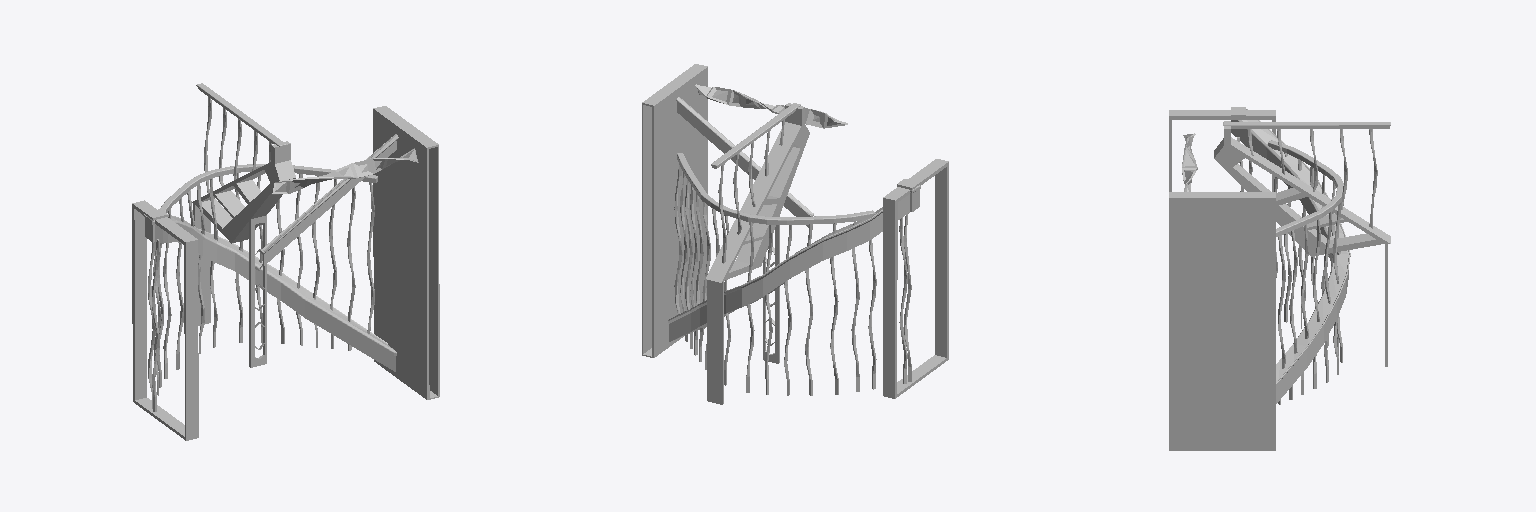
File: Rune-A-04.obj
3 renders of one model, left to right at view 1: azimuth 30°, elevation 25°; view 2: azimuth 150°, elevation 25°; view 3: azimuth 270°, elevation 25°, orthographic.
Parts seen in each view (by area): view 1: group1 pCube1, group1 pCube3, group1 pCube13, pCube5 group1, group1 pCube6, pCube7, group1 pCube4, pCube32, pCube8, pCube40, pCube11; view 2: group1 pCube1, group1 pCube3, pCube5 group1, group1 pCube13, pCube8, pCube32, group1 pCube6, group1 pCube4, pCube7, pCube40, pCube10, pCube11; view 3: group1 pCube1, group1 pCube13, pCube5 group1, pCube32, group1 pCube3, pCube40, group1 pCube4.
Part boxes in pixels (x1,y1,x2,y2): group1 pCube1: (373,106,439,399); group1 pCube3: (132,200,198,440); group1 pCube13: (143,209,396,371); pCube5 group1: (192,141,295,243); group1 pCube6: (260,134,398,265); pCube7: (249,215,266,367); group1 pCube4: (272,148,418,194); pCube32: (160,164,377,212); pCube8: (193,203,210,325); pCube40: (196,83,286,146); pCube11: (152,239,159,411); group1 pCube1: (642,64,707,357); group1 pCube3: (883,159,948,398); pCube5 group1: (706,103,809,282); group1 pCube13: (668,179,920,341); pCube8: (707,280,723,404); pCube32: (677,153,875,224); group1 pCube6: (676,97,813,227); group1 pCube4: (695,84,847,128); pCube7: (763,225,779,363); pCube40: (711,103,800,168); pCube10: (899,218,907,383); pCube11: (904,213,911,381); group1 pCube1: (1169,192,1275,450); group1 pCube13: (1231,107,1350,403); pCube5 group1: (1214,121,1390,256); pCube32: (1268,140,1343,236); group1 pCube3: (1169,110,1275,191); pCube40: (1223,122,1390,128); group1 pCube4: (1182,133,1197,191).
Size of the model in its own units: 9.67 by 9.52 by 7.24.